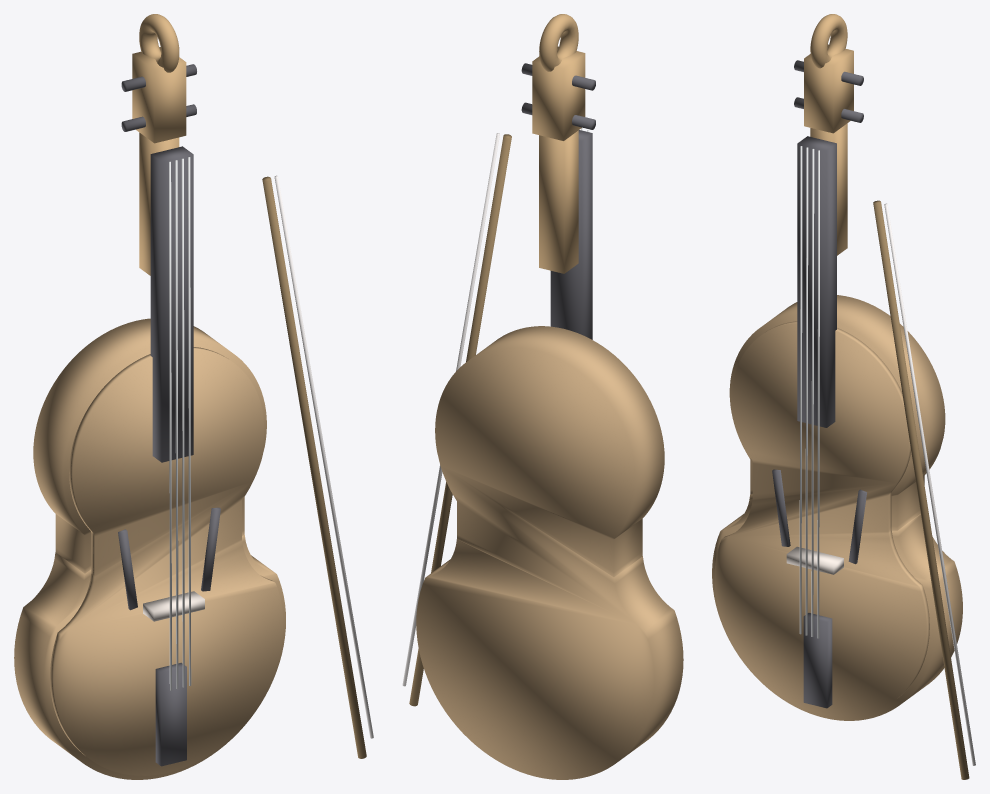
File: violin.glb
3 renders of one model, left to right at view 1: azimuth 30°, elevation 25°; view 2: azimuth 150°, elevation 25°; view 3: azimuth 330°, elevation 25°, orthographic. The views are drawn at different scales.
Visible parts, largest first — view 1: part0, part2, part4, part12; view 2: part0, part2, part4; view 3: part0, part2, part4, part12.
Boxes of the visible parts, bbox=[...] form: part0: bbox=[14, 318, 285, 779]; part2: bbox=[118, 14, 373, 766]; part4: bbox=[150, 146, 193, 462]; part12: bbox=[169, 157, 191, 690]; part0: bbox=[416, 326, 683, 779]; part2: bbox=[402, 14, 595, 706]; part4: bbox=[550, 130, 592, 339]; part0: bbox=[712, 295, 962, 720]; part2: bbox=[772, 14, 975, 779]; part4: bbox=[797, 136, 836, 427]; part12: bbox=[799, 146, 819, 638].
Bounding box in the file's own units: 0.4219 × 1 × 0.1277.
4 materials, 4 textured.
